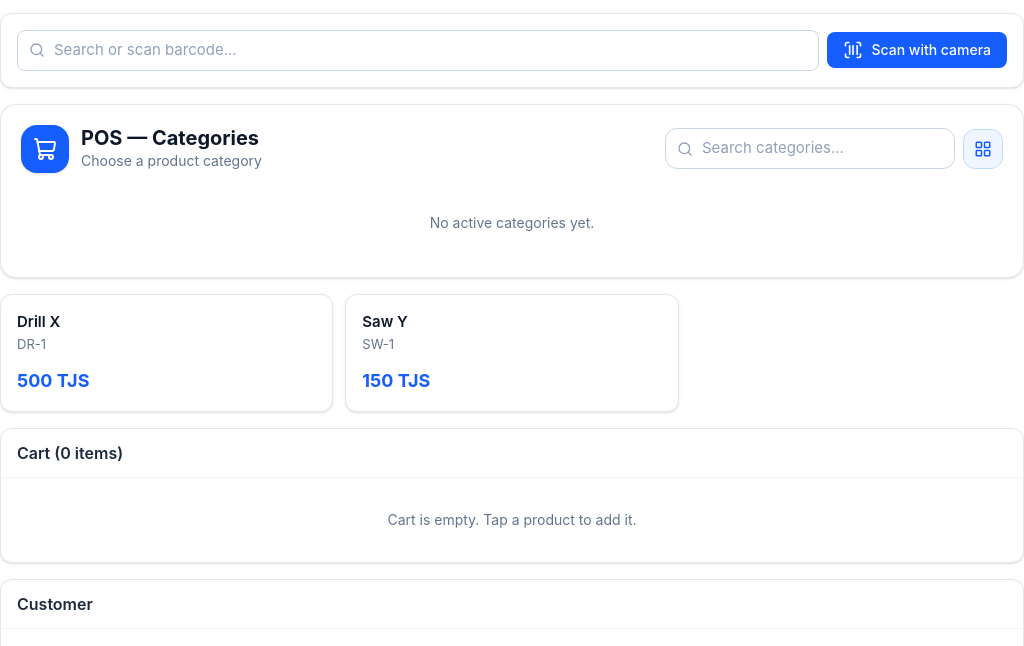
Test case: PosPage › server WALKIN_FULL_PAYMENT_REQUIRED: shows message and cancels the draft
What coordinates should you click on to do the following:
click the text "Drill X"
I would click on:
 (39, 322)
Its box is [17,310,60,333].
(page scrolled)
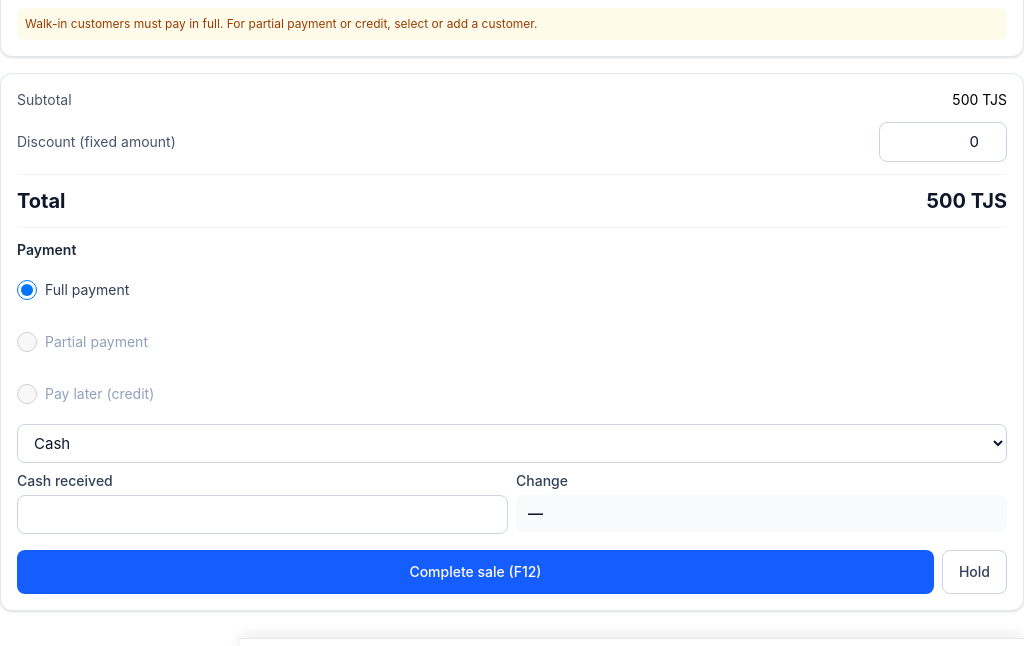
What coordinates should you click on to do the following:
click the button "Complete sale (F12)"
I would click on:
 (475, 572)
Its box is [17,550,934,594].
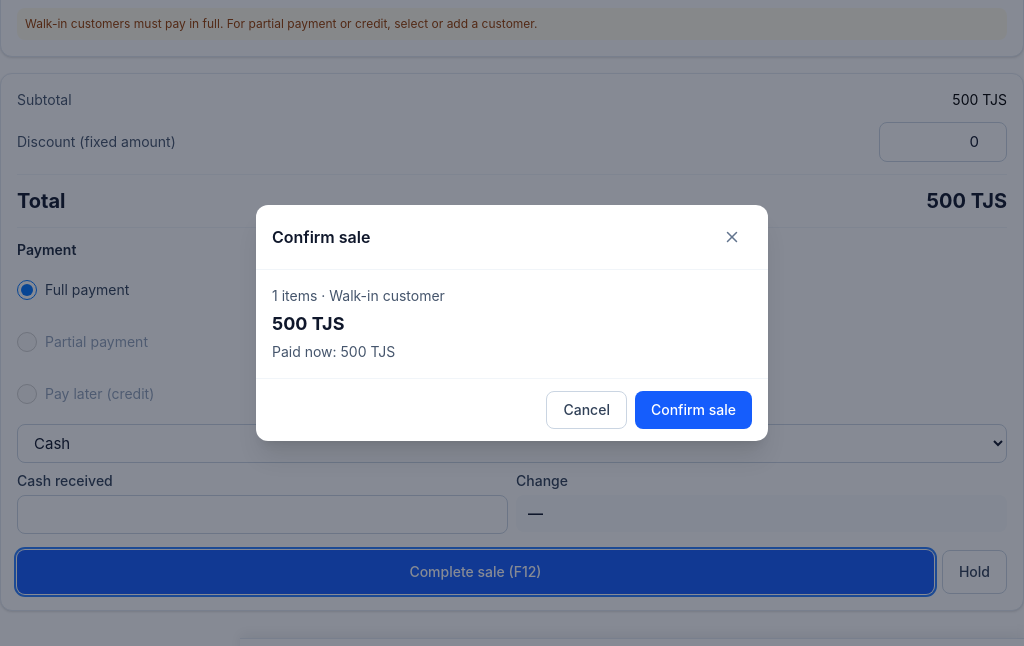
What coordinates should you click on to do the following:
click the button "Confirm sale"
I would click on:
 (694, 410)
Its box is [635,391,752,429].
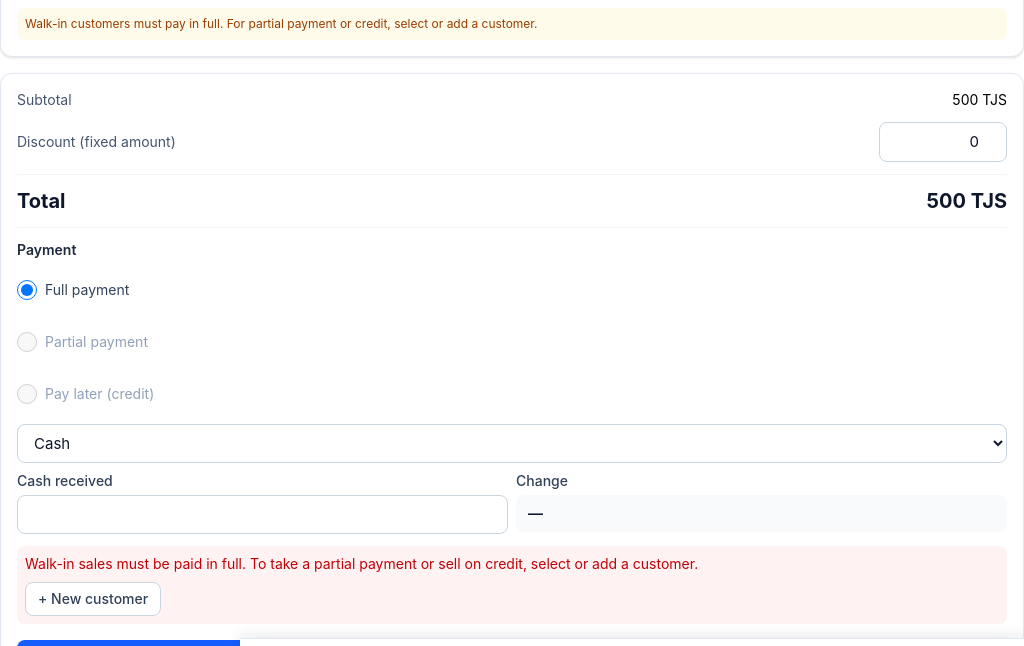
Now the text "Walk-in sales must be paid in full. To take a partial payment or sell on credit, select or add a customer." is shown, box [25,555,698,572]
